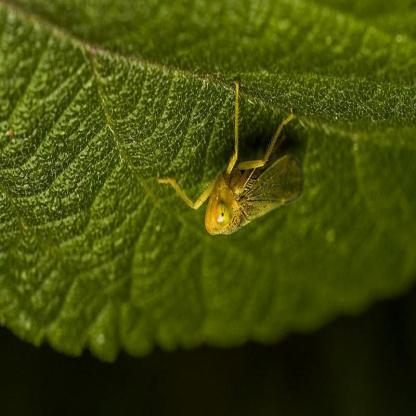green-leafhopper: (156, 78, 302, 239)
